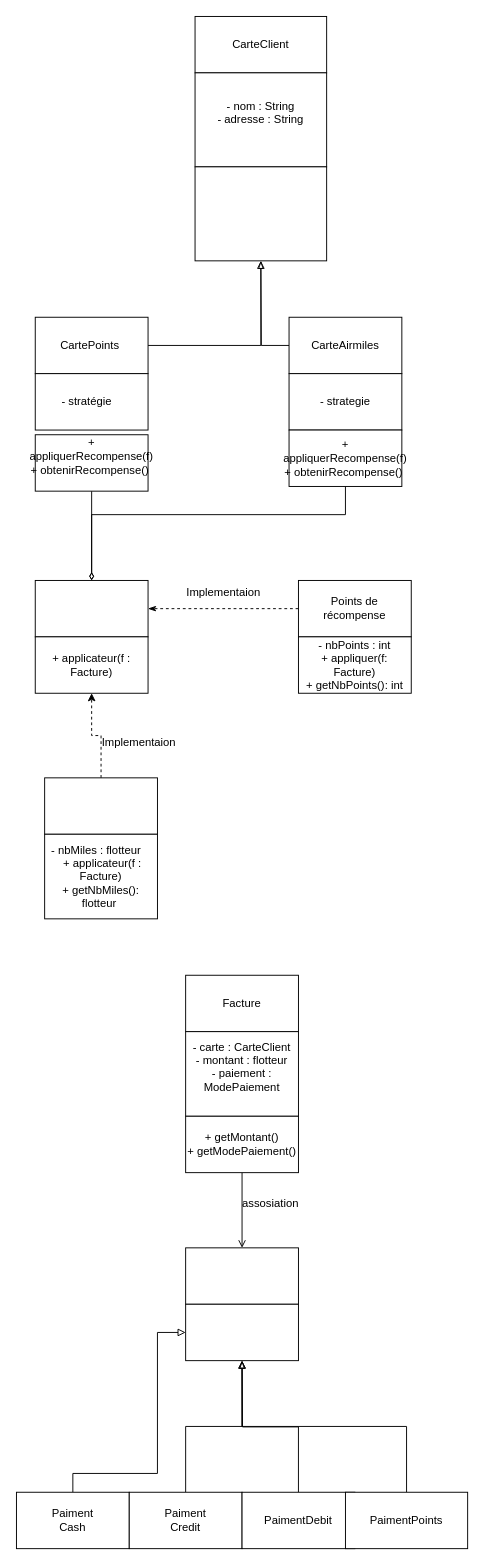
Some shapes in this 484 by 1565 pixel diagram are drawn without their labels. Each missing label, with the centre of its shape:
"+ appliquerRecompense(f: Facture) + obtenirRecompense()" goes at (260,213).
"+ payeur(montant) + getType()" goes at (241,1332).
"ModePaiment" goes at (241,1275).
"RécompenseAirMiles" goes at (100,805).
"StratégieRecompense" goes at (91,608).
